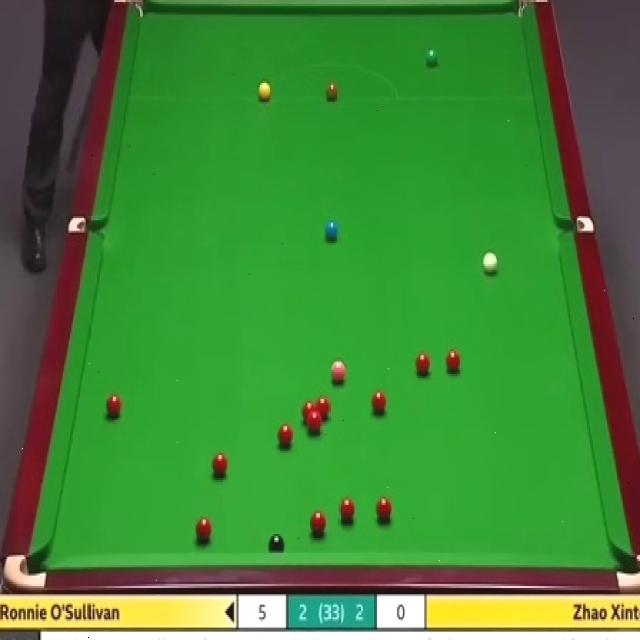black-ball: (268, 534, 285, 553)
blue-ball: (322, 216, 338, 243)
brown-ball: (324, 79, 338, 103)
green-ball: (423, 48, 439, 68)
pink-ball: (331, 356, 346, 384)
red-ball: (414, 350, 431, 380), (106, 392, 124, 420), (195, 516, 212, 543), (376, 495, 392, 523), (211, 451, 227, 479), (339, 497, 355, 524), (445, 350, 461, 376), (371, 389, 386, 416), (311, 510, 326, 536), (278, 423, 293, 448), (316, 397, 331, 422), (302, 401, 316, 422), (308, 414, 321, 434)
white-ball: (482, 250, 499, 278)
yellow-ball: (257, 80, 271, 101)
